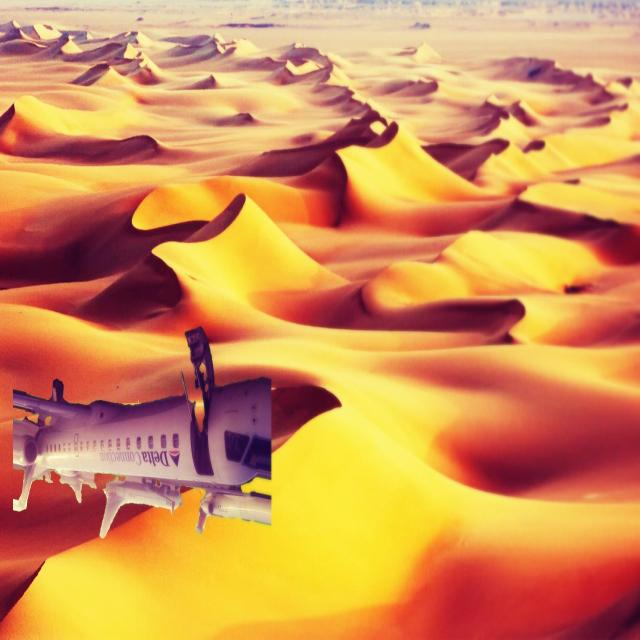airplane: (11, 324, 273, 539)
